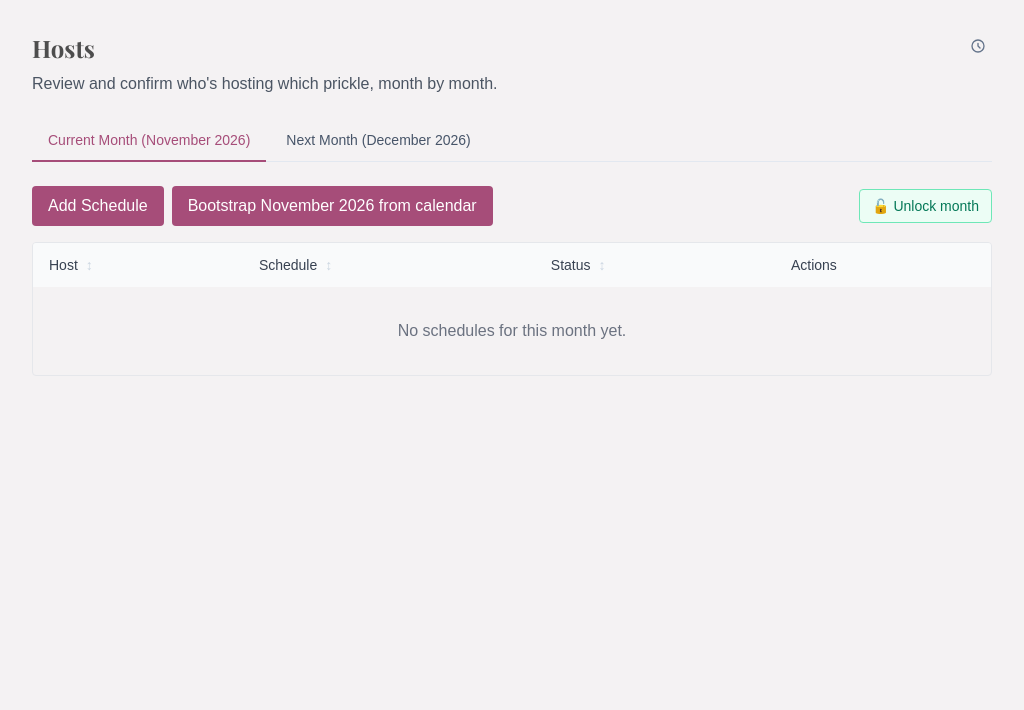
Test: HostsClient add-host eligibility warning › hides a stale warning once the email is edited
Expected: the text "No schedules for this month yet." is shown, [33,287,991,375]
Click the button "Add Schedule" at (98, 206), box [32,186,164,226]
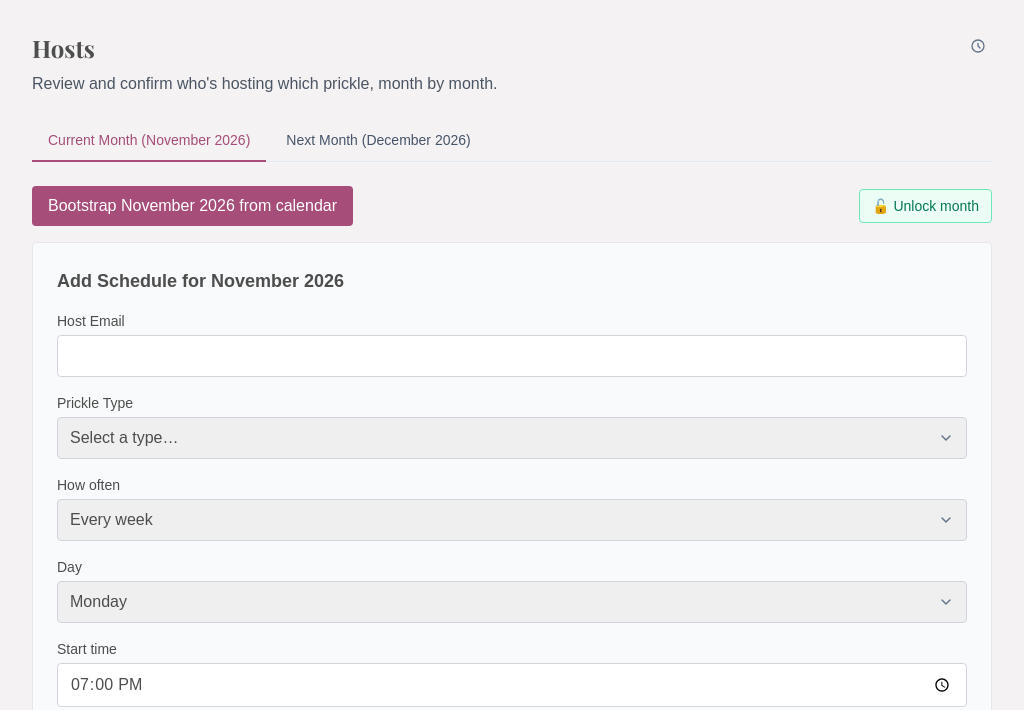
Type "new@example.test" into the field labelled "Host Email" at (512, 356), box [57,335,967,377]
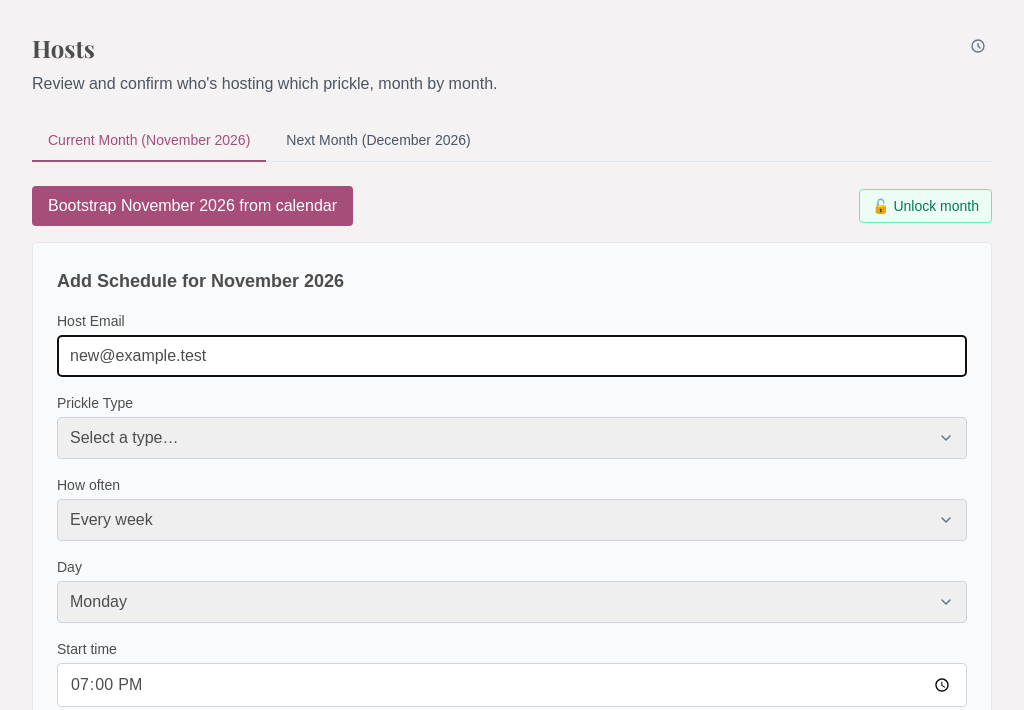
Press Tab
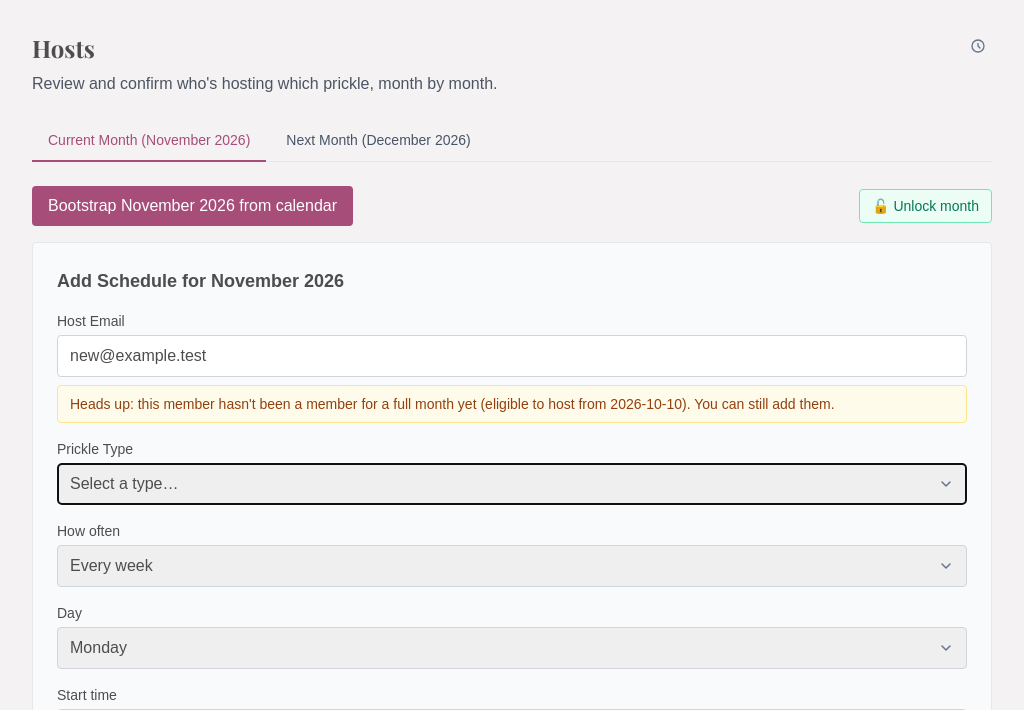
Expected: the message is shown, [57,385,967,423]
Type "x" into the field labelled "Host Email" at (512, 356), box [57,335,967,377]
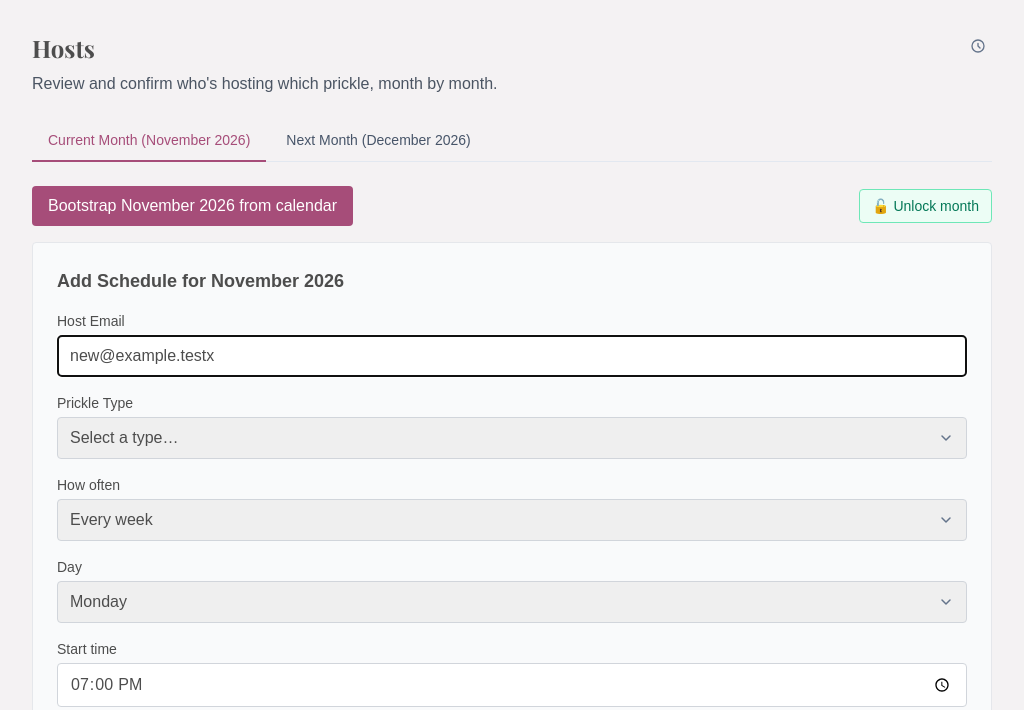
Expected: the message is gone
